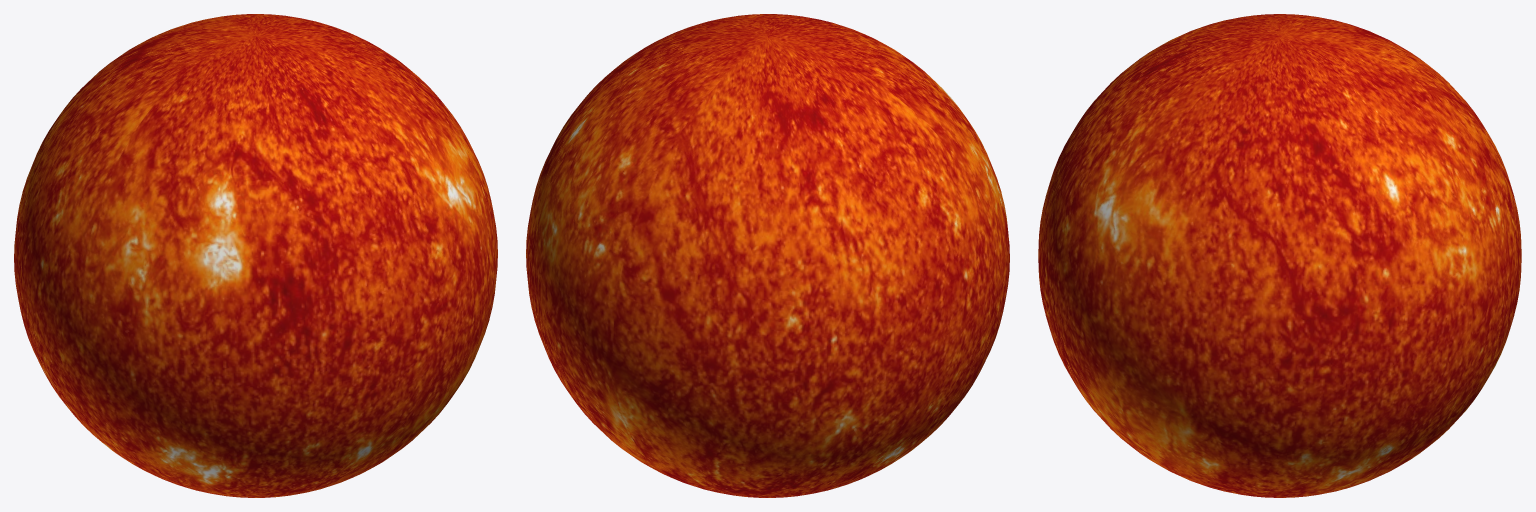
File: Sun.obj
3 views of the same model, side by side, from view 1: azimuth 30°, elevation 25°; view 2: azimuth 150°, elevation 25°; view 3: azimuth 270°, elevation 25° (orthographic).
Visible parts, largest first — view 1: Moon_Moon1 Moon_group2 Moon_polySurface2; view 2: Moon_Moon1 Moon_group2 Moon_polySurface2; view 3: Moon_Moon1 Moon_group2 Moon_polySurface2.
Part boxes in pixels (<box>): Moon_Moon1 Moon_group2 Moon_polySurface2: <box>14,14,497,497</box>; Moon_Moon1 Moon_group2 Moon_polySurface2: <box>526,14,1009,497</box>; Moon_Moon1 Moon_group2 Moon_polySurface2: <box>1038,14,1521,497</box>.
Bounding box in the file's own units: 110 × 110 × 110.
1 material, 1 textured.
